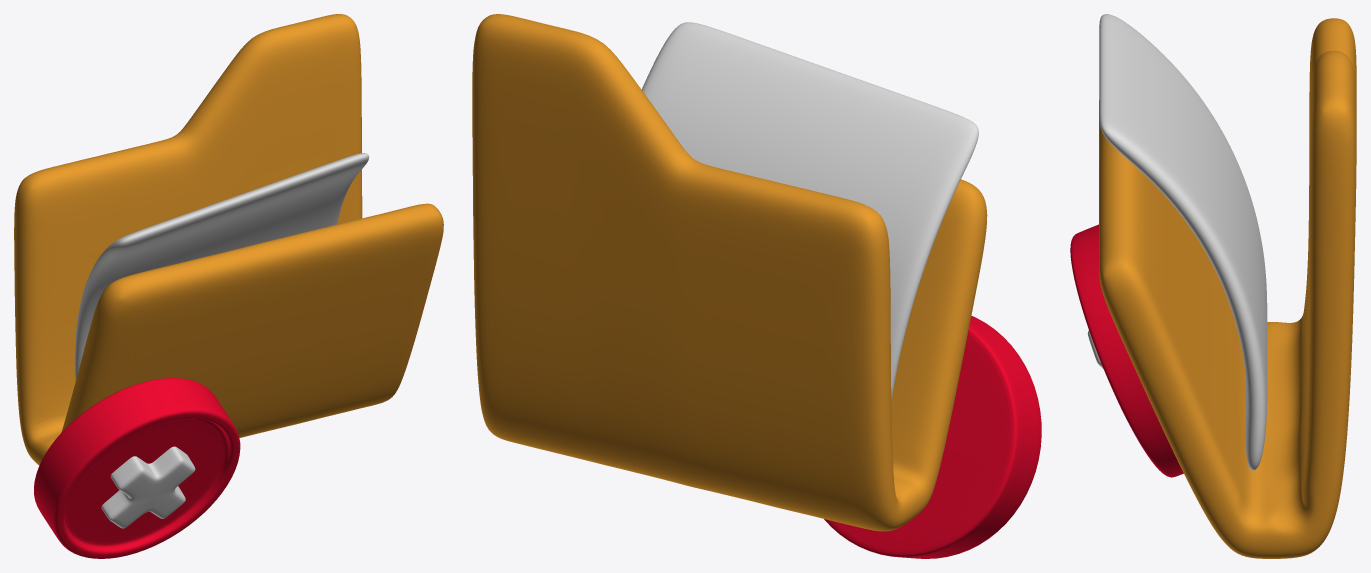
Rendered from delete-folder-animated-3d-icon-255362312924.glb.
The picture shows the model from 3 angles, left to right: view 1: azimuth 30°, elevation 25°; view 2: azimuth 150°, elevation 25°; view 3: azimuth 270°, elevation 25°; orthographic projection. The views are drawn at different scales.
Visible parts, largest first — view 1: Folder.002, Base.002, File 1.002, Cross Symbol; view 2: Folder.002, File 1.002, Base.002; view 3: Folder.002, File 1.002, Base.002.
Boxes of the visible parts, x1,y1,x2,y2 form: Folder.002: (14,14,443,465); Base.002: (34,378,240,558); File 1.002: (74,153,369,382); Cross Symbol: (101,446,195,528); Folder.002: (472,14,987,531); File 1.002: (641,22,978,400); Base.002: (824,316,1041,558); Folder.002: (1099,18,1356,558); File 1.002: (1099,14,1267,470); Base.002: (1070,224,1183,477).
Bounding box in the file's own units: 2.14 × 2.27 × 1.1.
